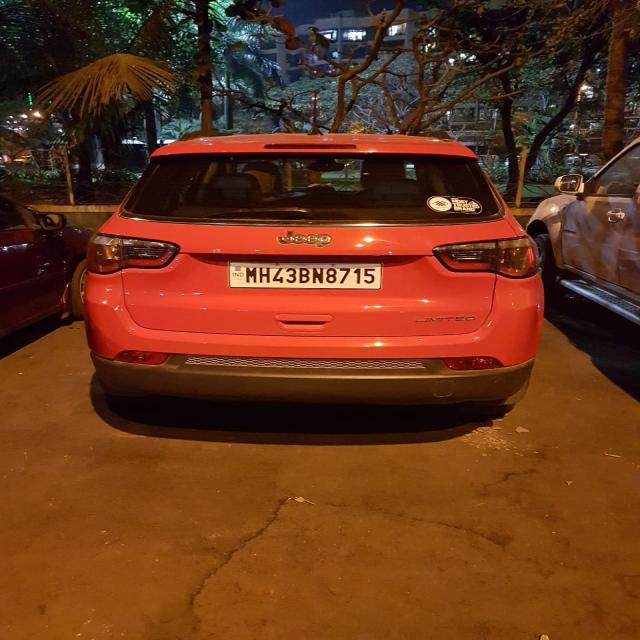Number-Plate: (230, 264, 382, 287)
